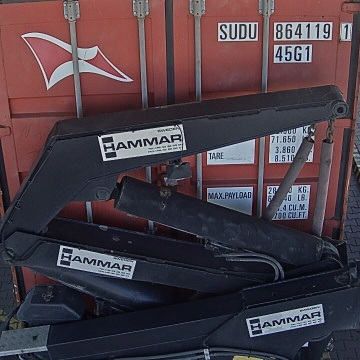serial_id: (218, 23, 351, 40)
